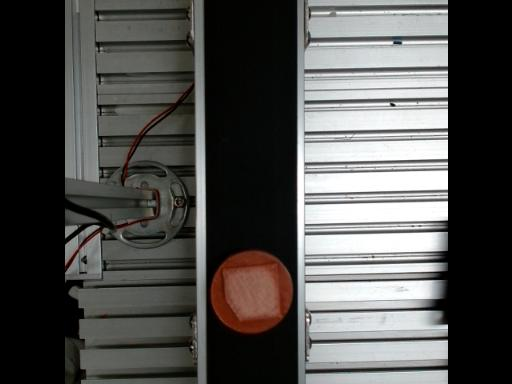Brown_Waper: (210, 251, 292, 334)
Not_Square: (220, 263, 281, 324)
